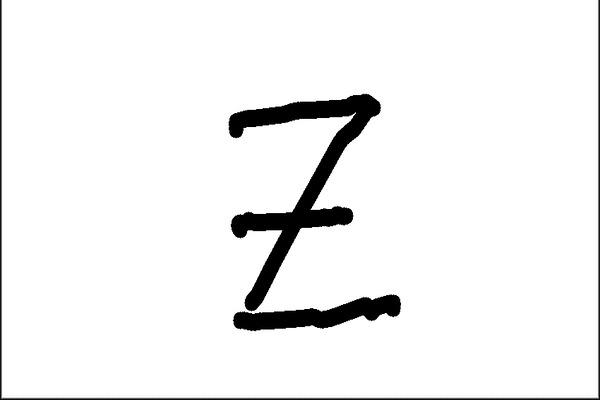Z: (219, 88, 404, 334)
